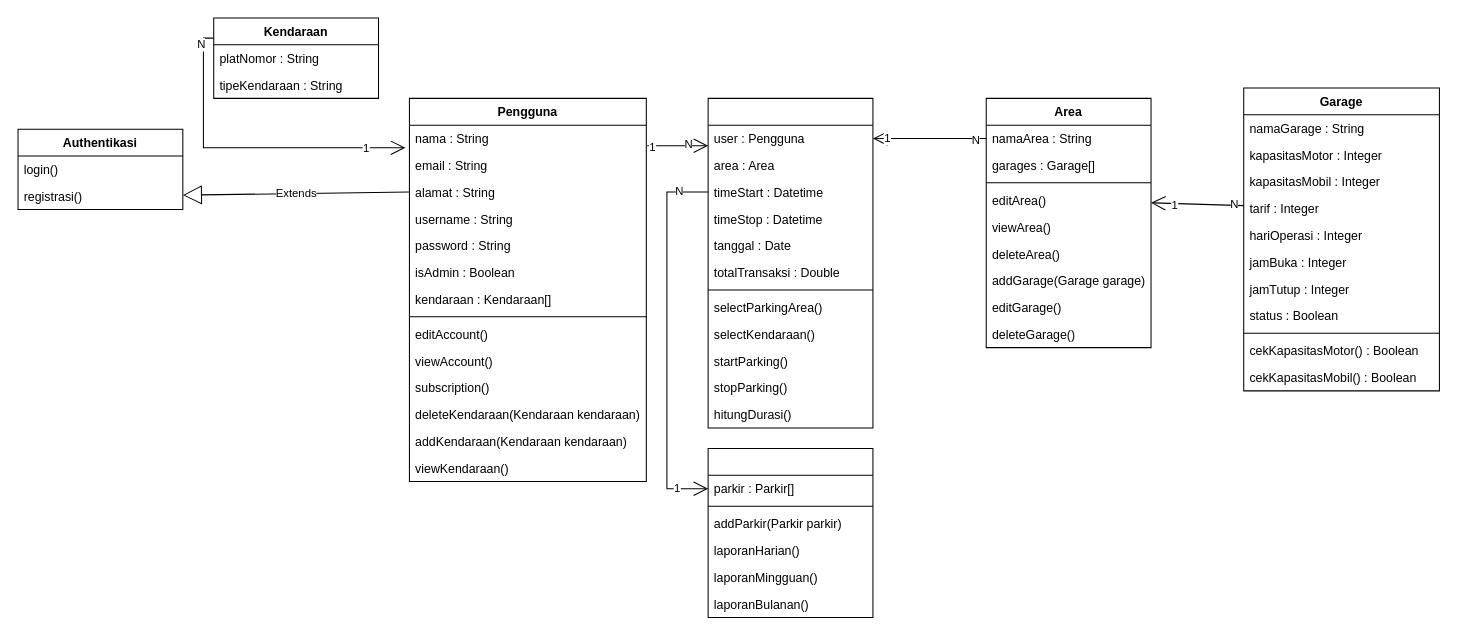
This 1457x639 diagram has some shape labels left out. Each missing label, with the box of its shape:
Parkir: (707, 97, 873, 428)
Transaksi: (707, 448, 873, 617)
